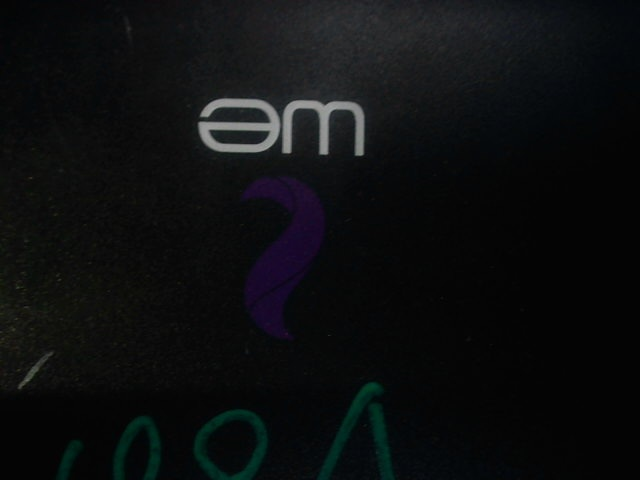AT_We: (190, 90, 378, 345)
